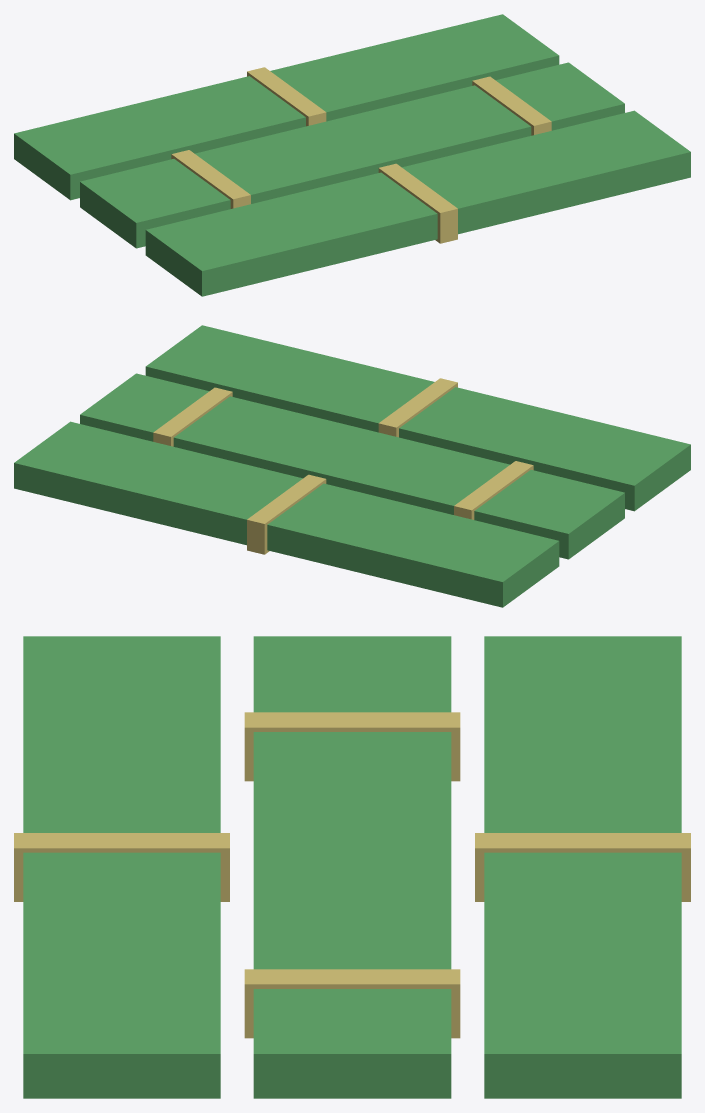
File: BigPlank2.fbx
3 renders of one model, top to bottom at view 1: azimuth 30°, elevation 25°; view 2: azimuth 150°, elevation 25°; view 3: azimuth 270°, elevation 25°, orthographic. The views are drawn at different scales.
Parts seen in each view (by area): view 1: Plank6, Plank2, Plank5; view 2: Plank5, Plank2, Plank6; view 3: Plank2, Plank6, Plank5.
Part boxes in pixels (x1,y1,x2,y2): Plank6: (145, 110, 690, 296); Plank2: (80, 62, 624, 248); Plank5: (14, 14, 559, 200); Plank5: (14, 421, 559, 607); Plank2: (80, 373, 624, 559); Plank6: (145, 325, 690, 511); Plank2: (244, 636, 460, 1098); Plank6: (14, 636, 229, 1098); Plank5: (475, 636, 690, 1098).
Size of the model in its own units: 12 by 0.7214 by 8.22.
